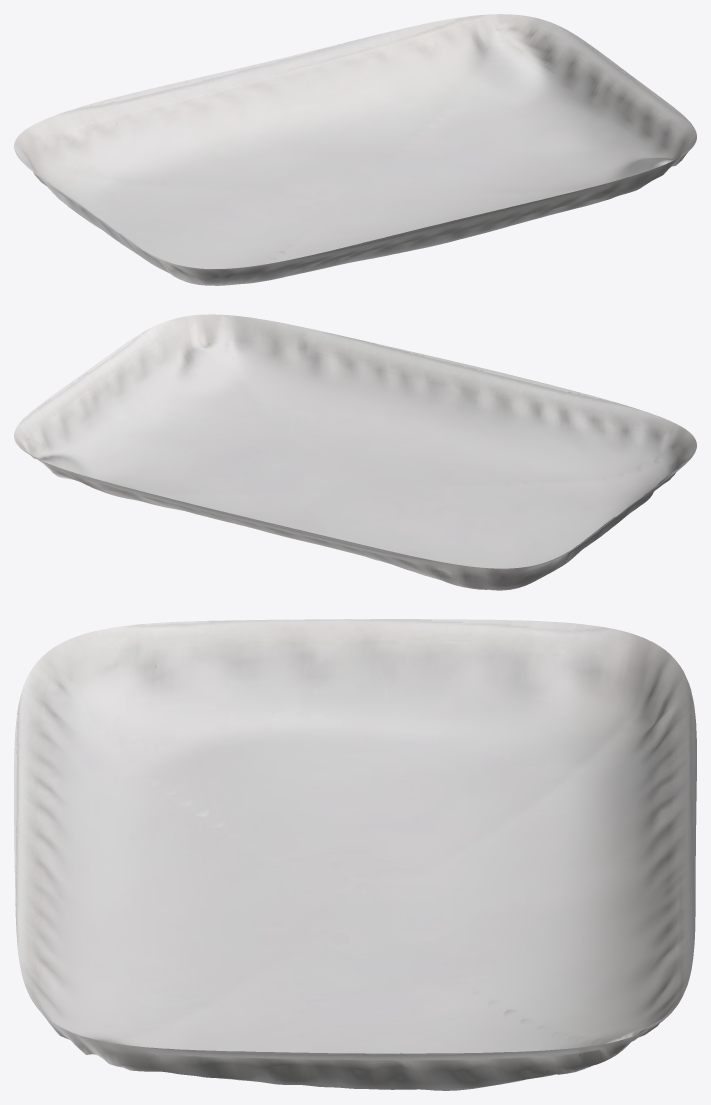
The model's file is lower_textile-mobile.glb.
The picture shows the model from 3 angles, top to bottom: view 1: azimuth 30°, elevation 25°; view 2: azimuth 150°, elevation 25°; view 3: azimuth 270°, elevation 25°; orthographic projection. The views are drawn at different scales.
Parts seen in each view (by area): view 1: lower_textile; view 2: lower_textile; view 3: lower_textile.
Boxes of the visible parts, <box> form: lower_textile: <box>14,14,696,285</box>; lower_textile: <box>14,314,696,590</box>; lower_textile: <box>14,619,696,1090</box>.
Size of the model in its own units: 3.01 by 0.2817 by 2.
Materials: 1 (1 with a texture image).
